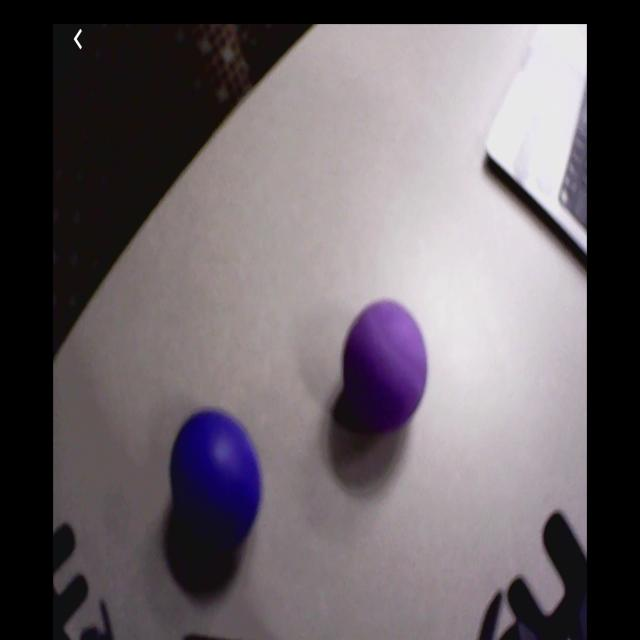ball: (171, 409, 262, 535), (343, 299, 429, 429)
